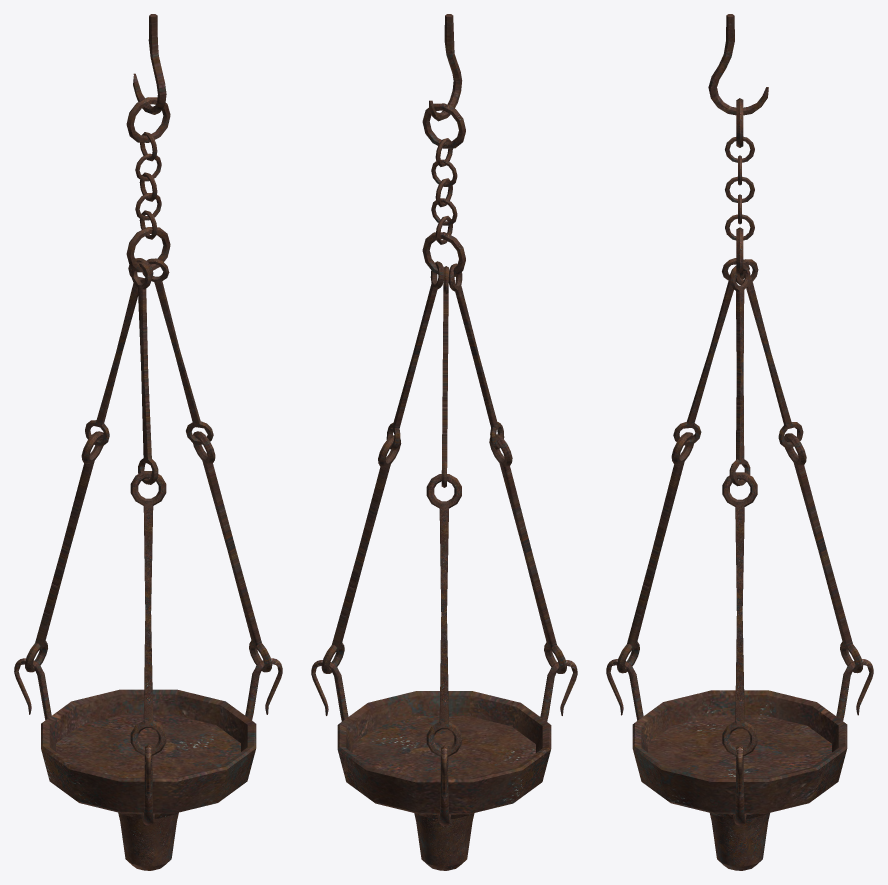
The model's file is Lamp 2.fbx.
3 renders of one model, left to right at view 1: azimuth 30°, elevation 25°; view 2: azimuth 150°, elevation 25°; view 3: azimuth 270°, elevation 25°, orthographic.
Parts seen in each view (by area): view 1: Lamp 2; view 2: Lamp 2; view 3: Lamp 2.
Boxes of the visible parts, x1,y1,x2,y2 form: Lamp 2: (14,14,282,870); Lamp 2: (311,14,577,870); Lamp 2: (606,14,873,870).
Bounding box in the file's own units: 39.48 × 142 × 40.38.
Materials: 1 (1 with a texture image).
